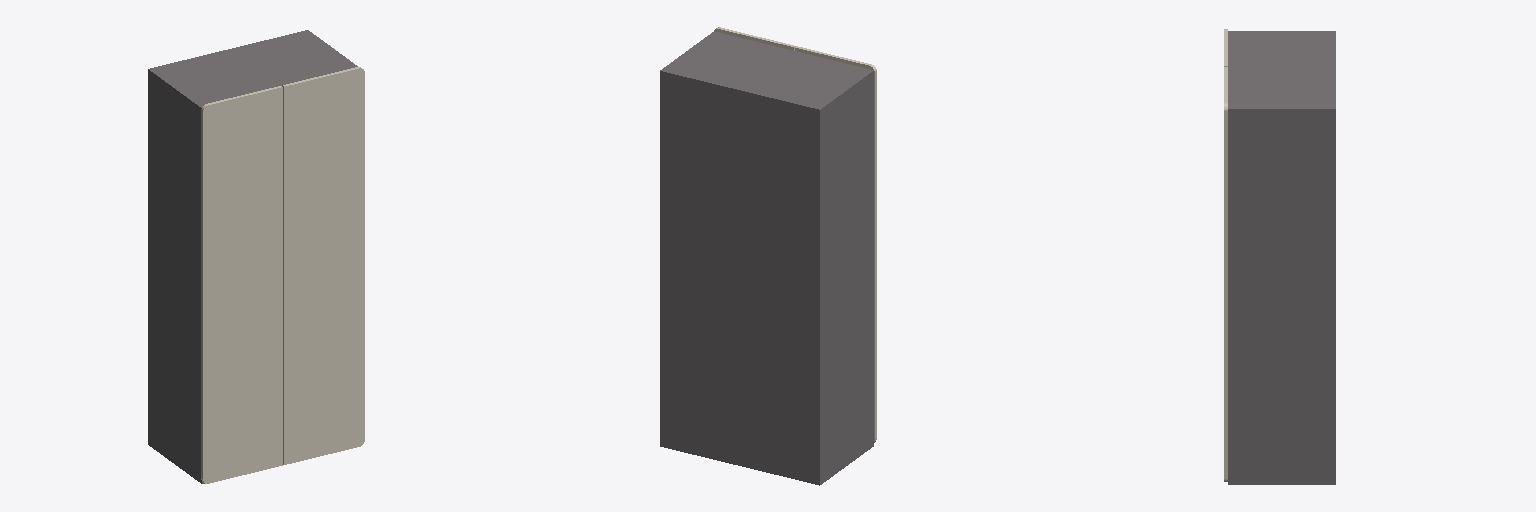
Rendered from 2pir_szafa_2d.obj.
3 views of the same model, side by side, from view 1: azimuth 30°, elevation 25°; view 2: azimuth 150°, elevation 25°; view 3: azimuth 270°, elevation 25° (orthographic).
Visible parts, largest first — view 1: Rectangle10, Rectangle11; view 2: Rectangle11, Rectangle10; view 3: Rectangle11, Rectangle10.
Part boxes in pixels (x1,y1,x2,y2): Rectangle10: (201,67,364,483); Rectangle11: (148,30,357,483); Rectangle11: (660,31,873,485); Rectangle10: (714,27,876,442); Rectangle11: (1228,31,1335,484); Rectangle10: (1224,29,1227,481).
Bounding box in the file's own units: 96.88 × 217 × 58.04.